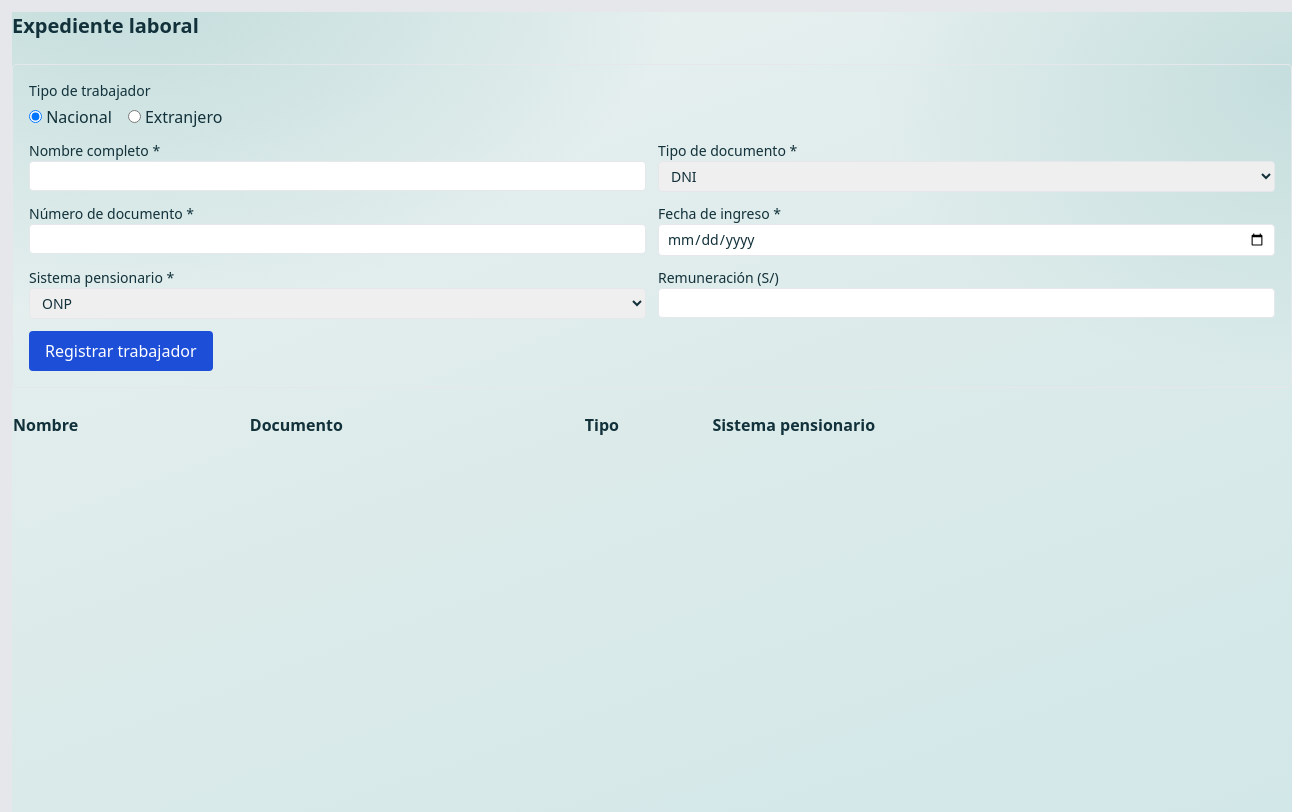
TrabajadoresPage · lista con sistema pensionario (HU-03) › un trabajador recién registrado entra a la lista con su sistema pensionario
This screenshot has width=1292, height=812.
Type "Rosa Vela" into the field labelled "Nombre completo *". click: {"x": 338, "y": 176}
box: 29,161 -> 646,191
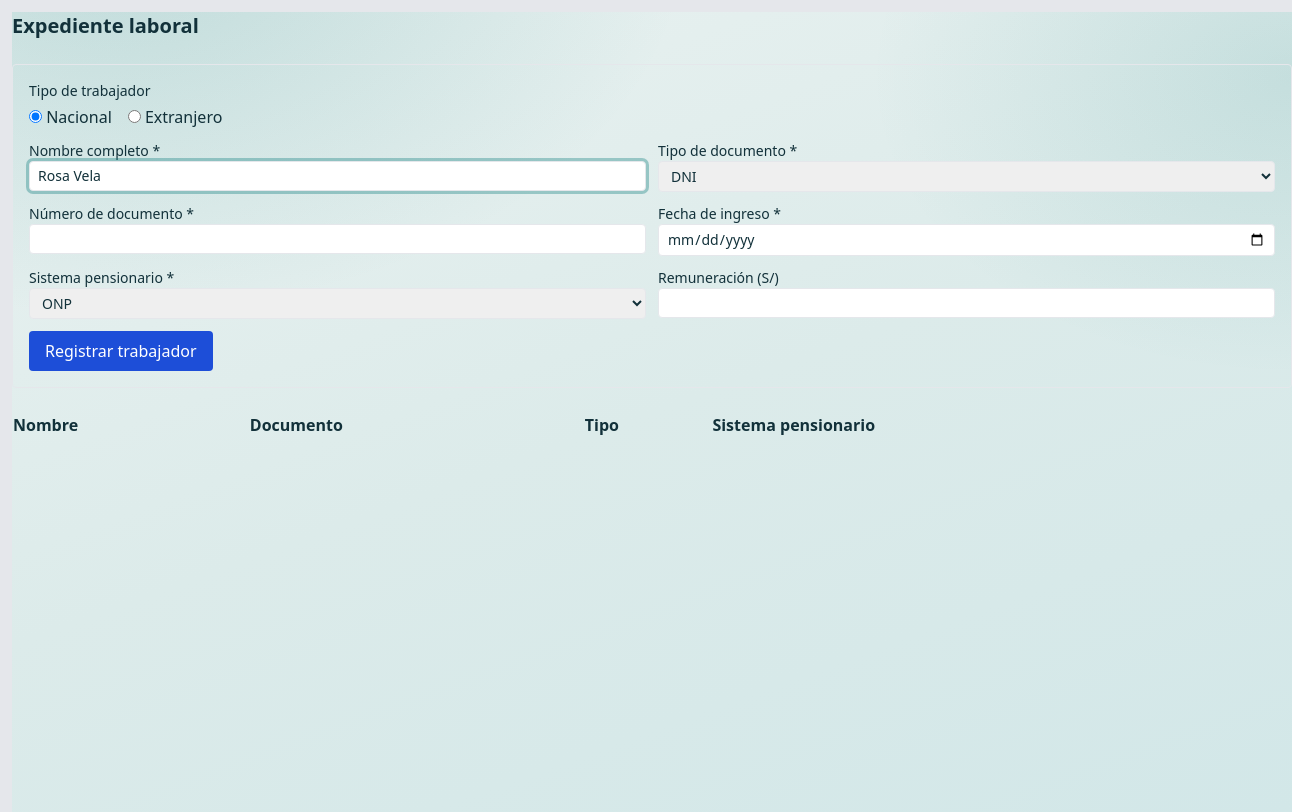
Type "70000009" into the field labelled "Número de documento *". click: {"x": 338, "y": 239}
box: 29,224 -> 646,254
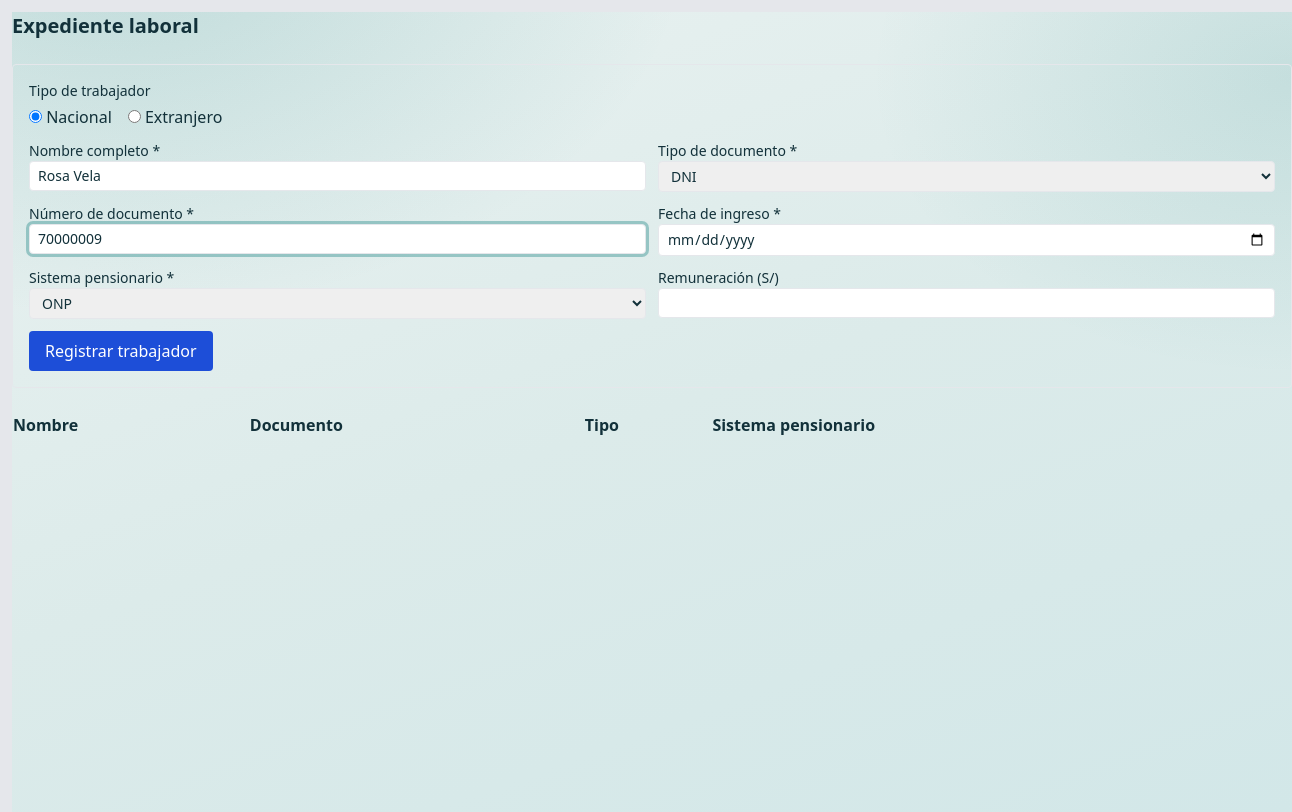
Type "2026-01-15" into the date field labelled "Fecha de ingreso *". click: {"x": 966, "y": 240}
box: 658,224 -> 1275,256
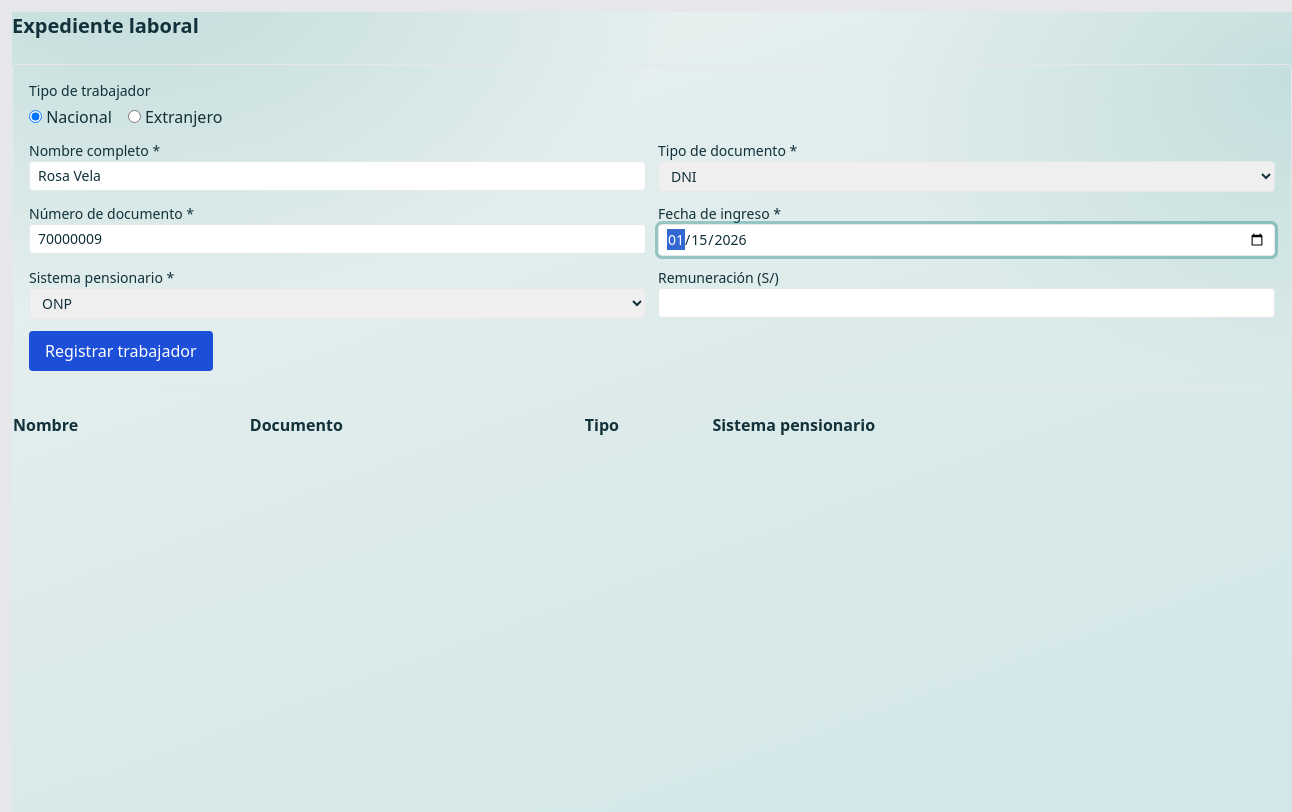
Select "AFP" in the dropdown labelled "Sistema pensionario *". click: {"x": 338, "y": 304}
box: 29,288 -> 646,319
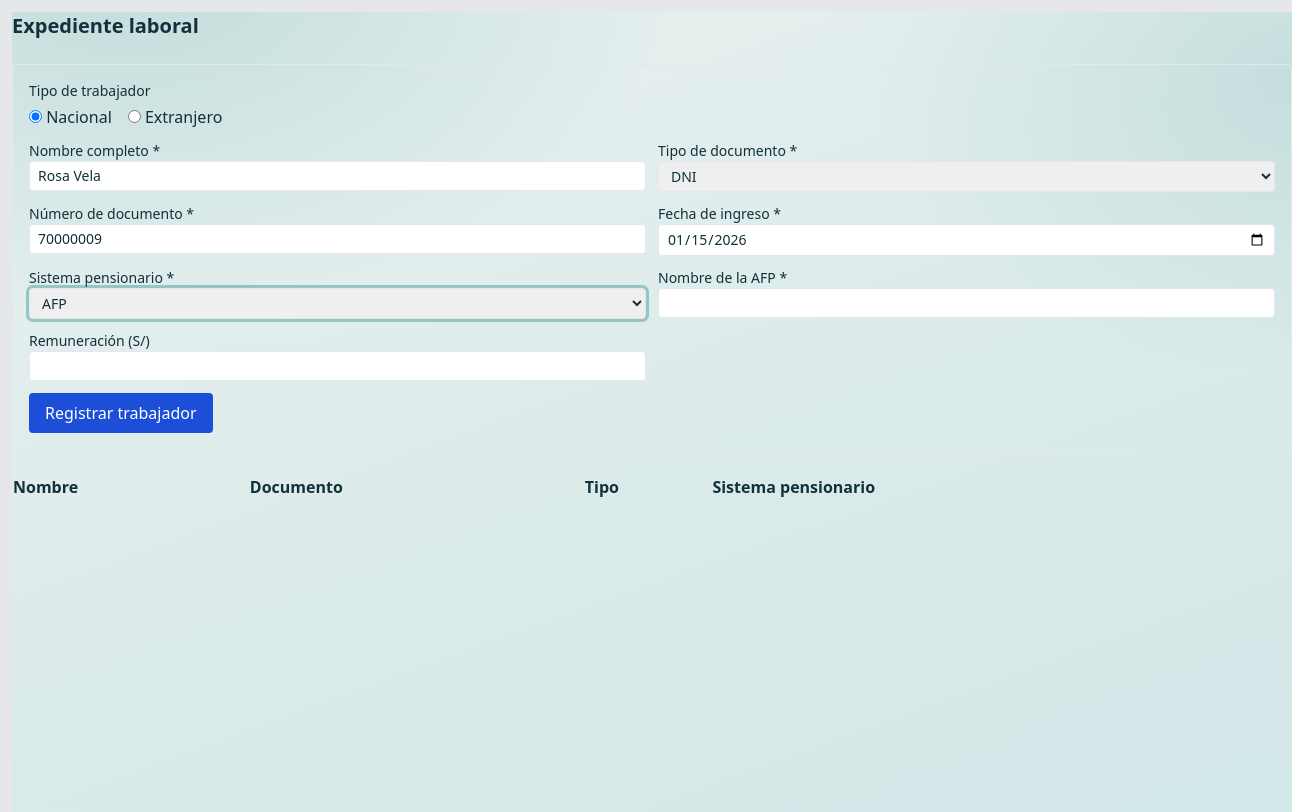
Type "Prima" into the field labelled "Nombre de la AFP *". click: {"x": 966, "y": 303}
box: 658,288 -> 1275,318
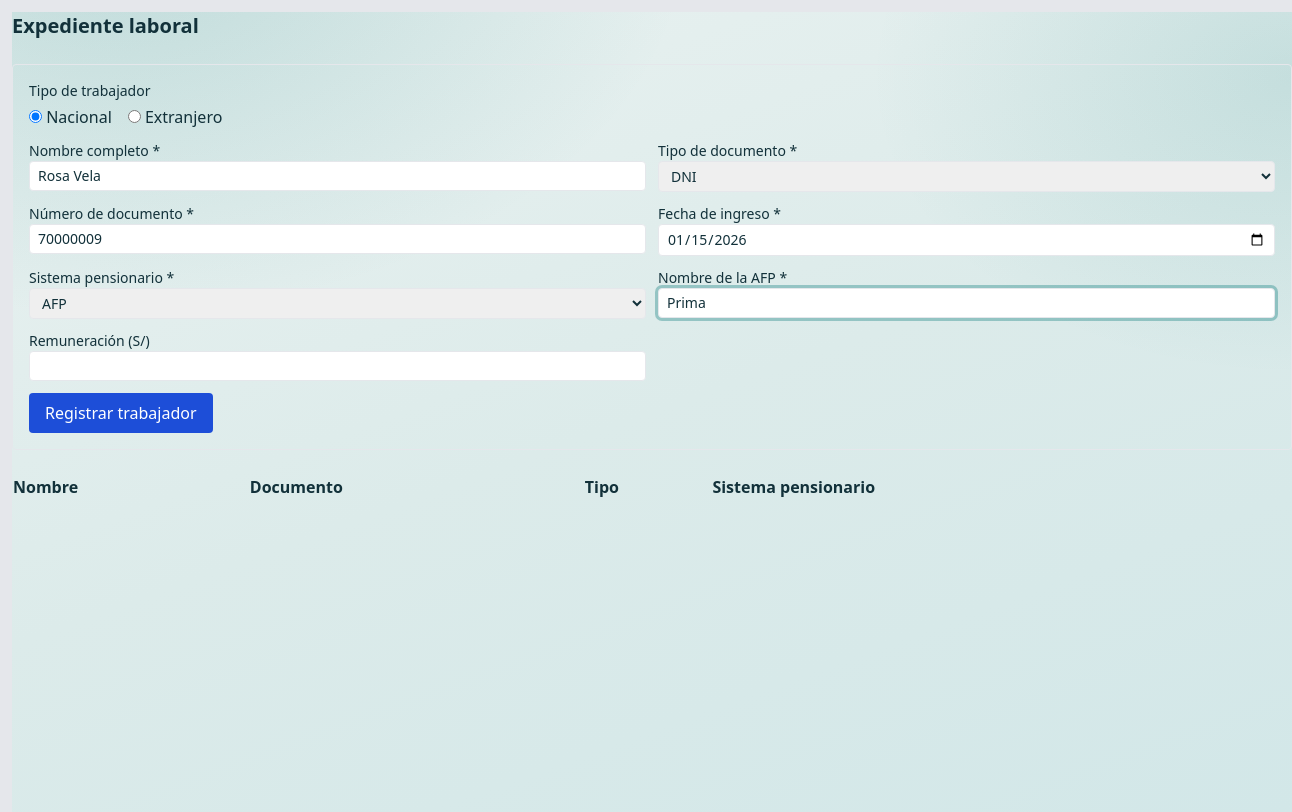
Click the button "Registrar trabajador". click: {"x": 121, "y": 413}
box: 29,393 -> 212,433
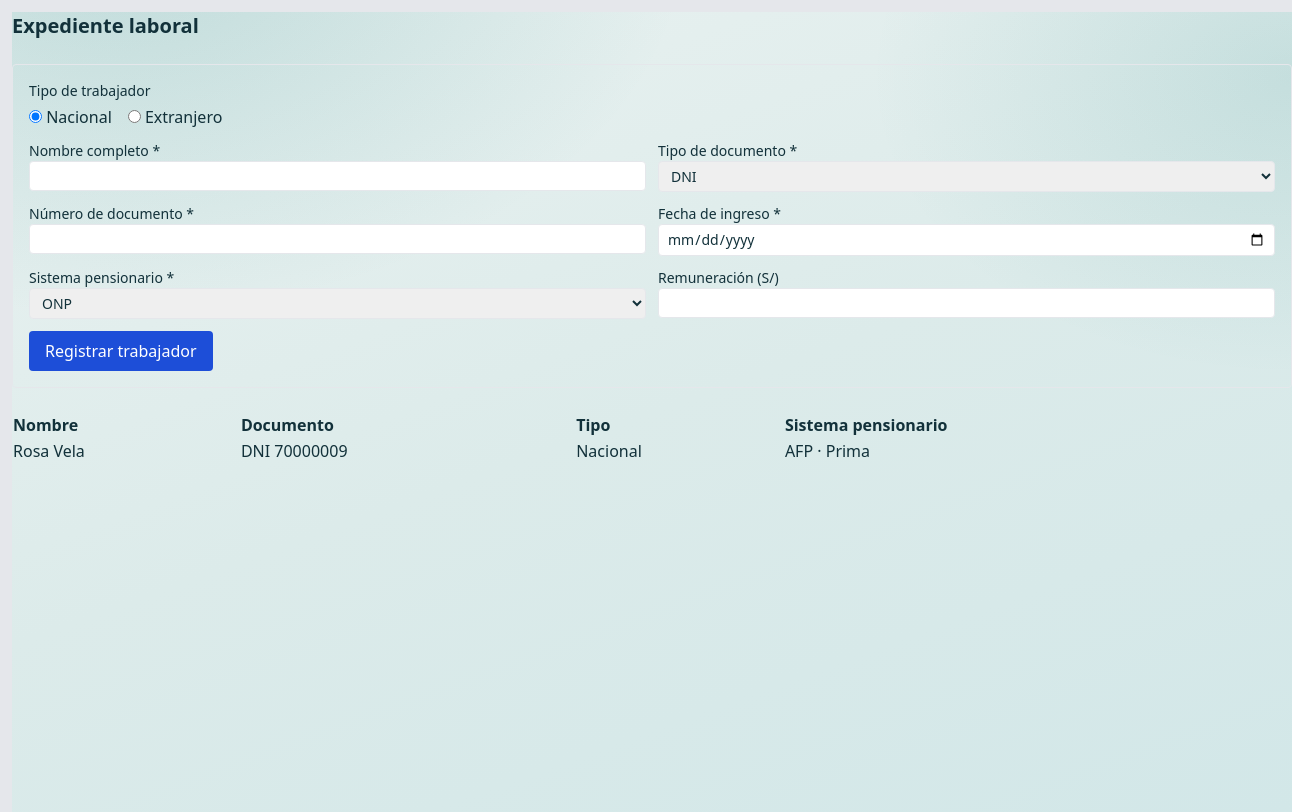
Check: the text "Rosa Vela" is shown, box 12,438 -> 240,464
Check: the cell "AFP · Prima" is shown, box 784,438 -> 1291,464
